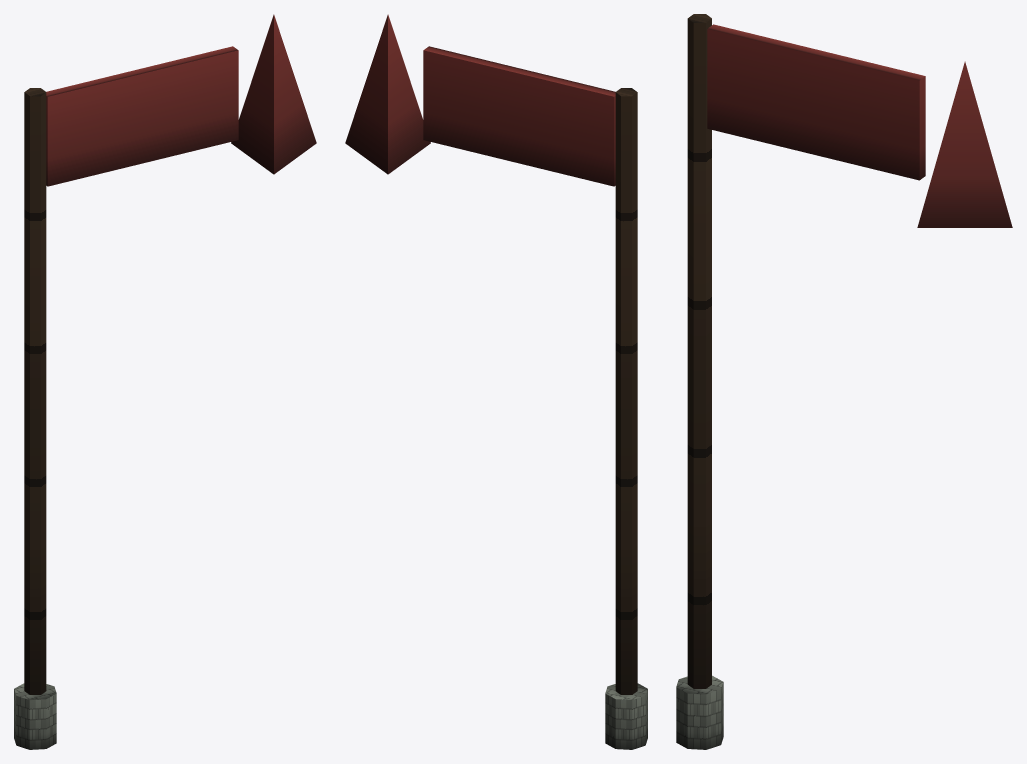
Rendered from pennant_pole.gltf.
3 views of the same model, side by side, from view 1: azimuth 30°, elevation 25°; view 2: azimuth 150°, elevation 25°; view 3: azimuth 330°, elevation 25° (orthographic). The views are drawn at different scales.
Visible parts, largest first — view 1: pennant_pole; view 2: pennant_pole; view 3: pennant_pole.
Boxes of the visible parts, x1,y1,x2,y2 form: pennant_pole: (14, 14, 316, 749); pennant_pole: (345, 14, 647, 749); pennant_pole: (676, 14, 1012, 749).
Bounding box in the file's own units: 0.63 × 1.34 × 0.1559.
Materials: 1 (1 with a texture image).
